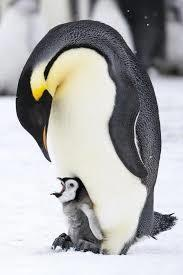emporer: (8, 14, 183, 258)
